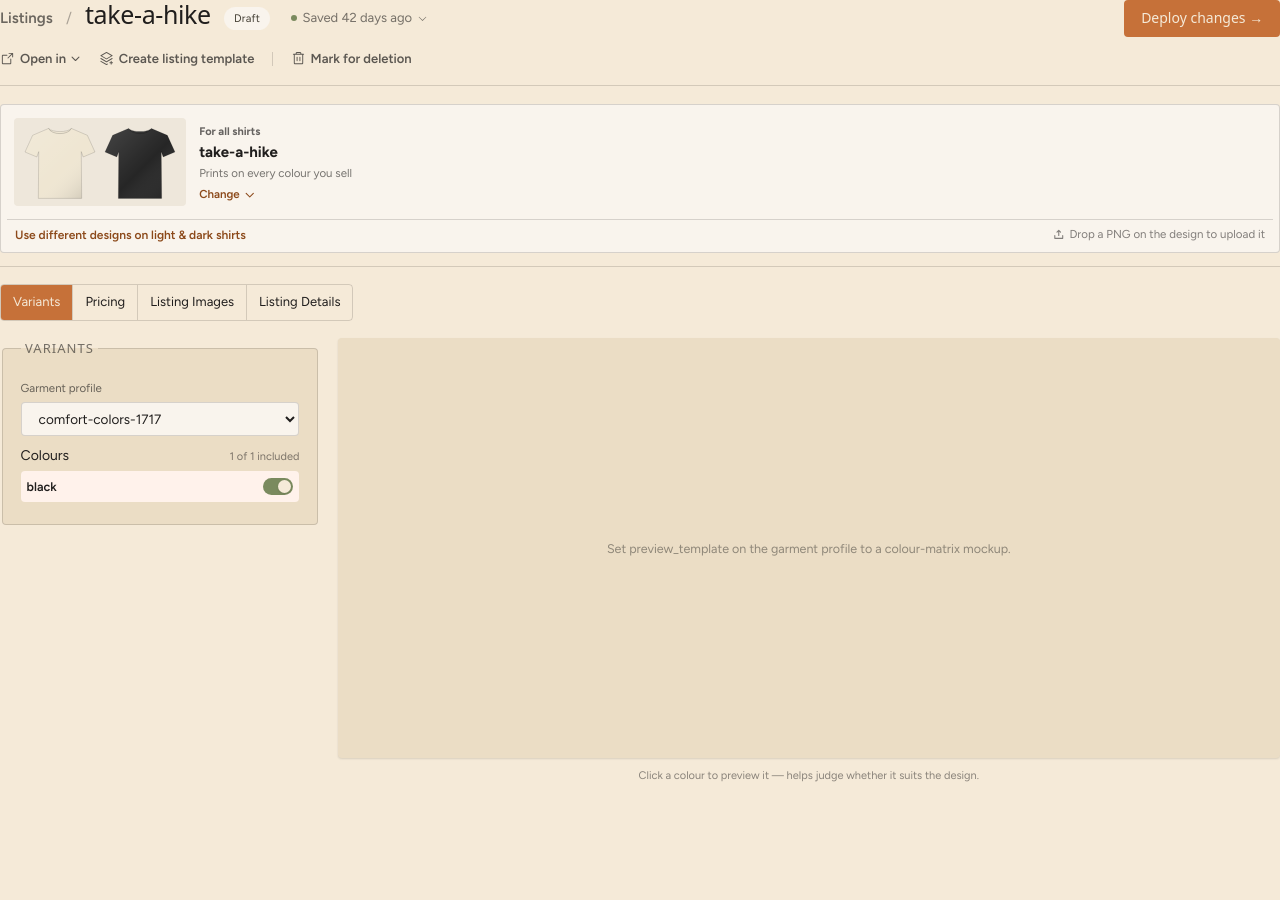
Test: ListingEditorPage › lifecycle actions › marks a pushed listing for deletion and offers the undo in place
Click the button "Mark for deletion". click: (351, 59)
box: [285,46,418,72]
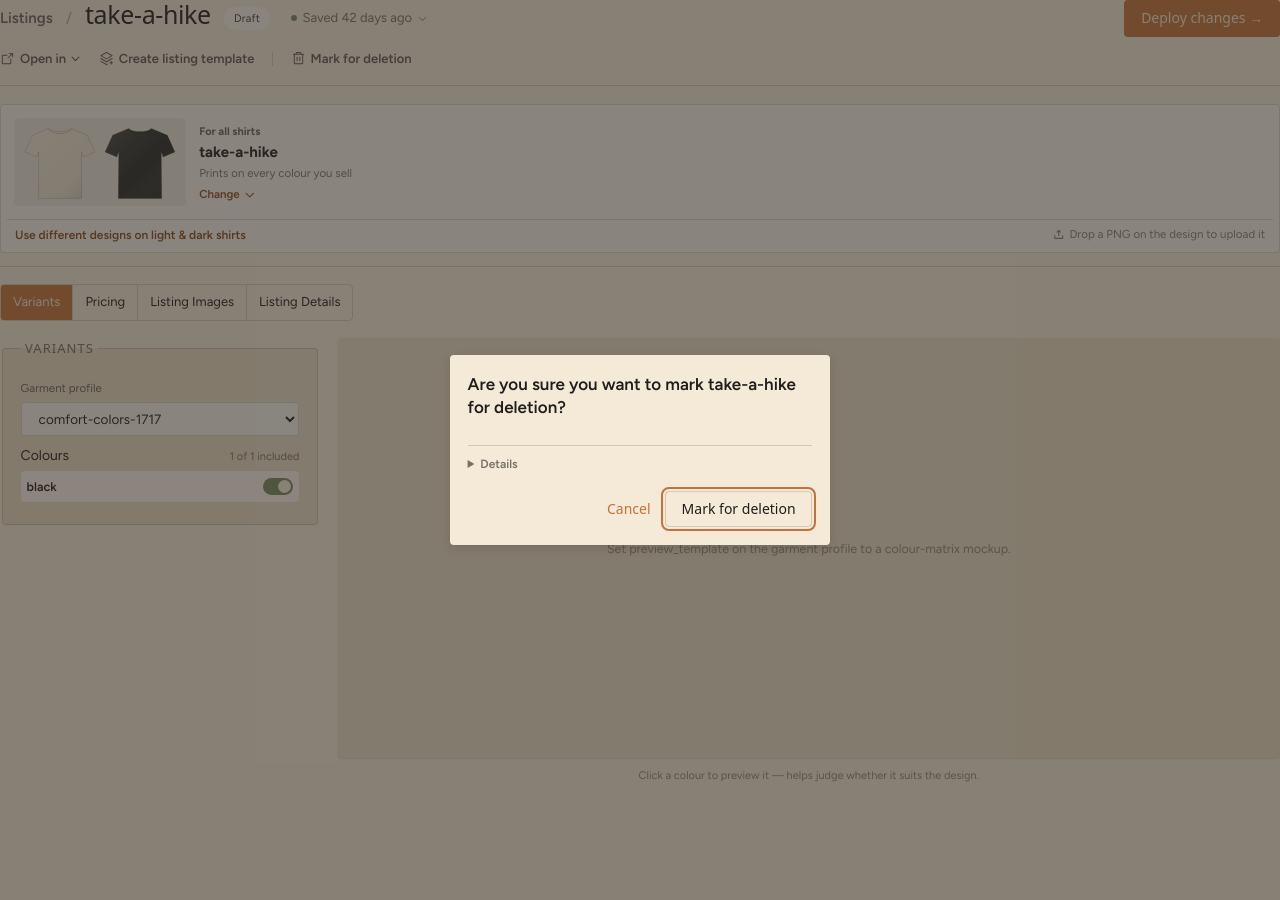
Click the 2nd button "Mark for deletion". click: (739, 509)
box: [665,491,812,527]
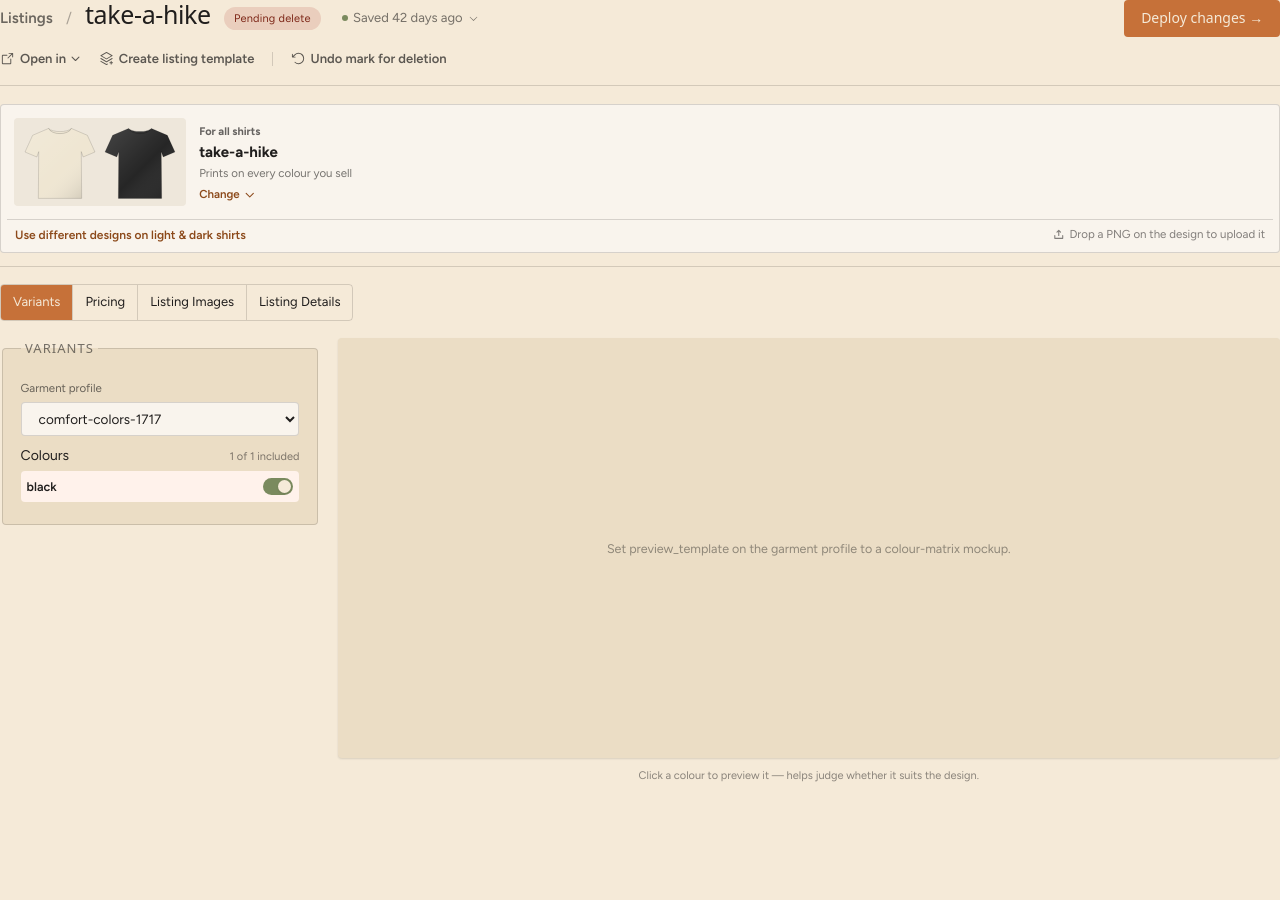
Expected: the button "Undo mark for deletion" is shown, [285,46,453,72]
Expected: the text "Pending delete" is shown, [224,7,321,30]
